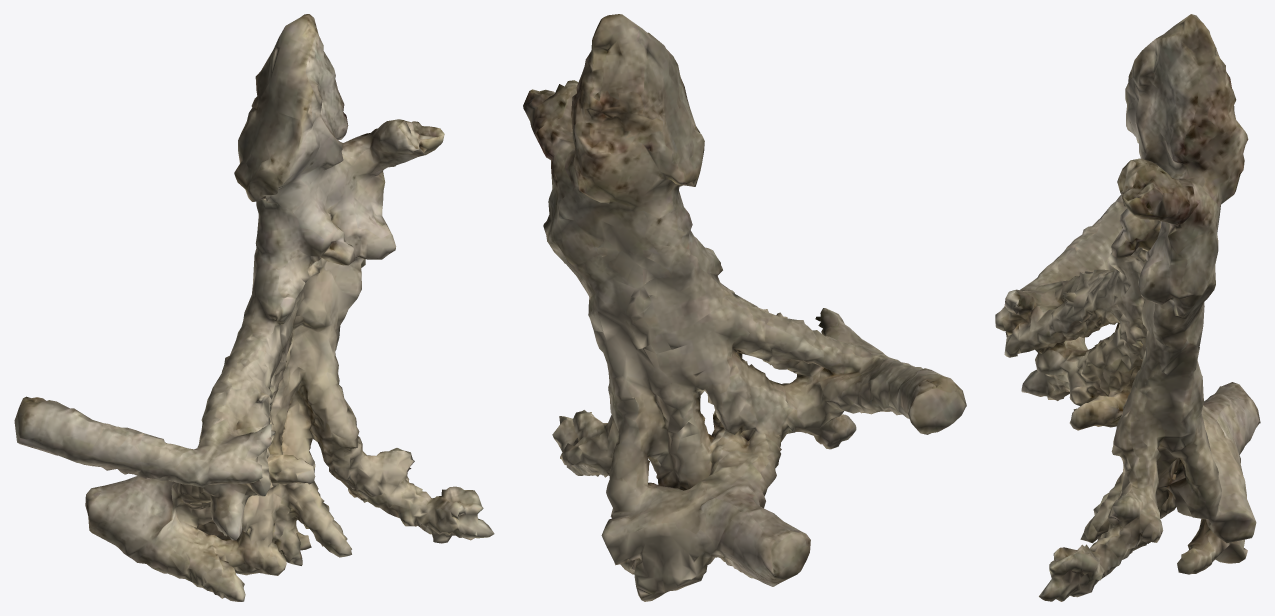
The model's file is prolifera.glb.
3 renders of one model, left to right at view 1: azimuth 30°, elevation 25°; view 2: azimuth 150°, elevation 25°; view 3: azimuth 270°, elevation 25°, orthographic. The views are drawn at different scales.
Bounding box in the file's own units: 0.2127 × 0.257 × 0.1077.
Materials: 1 (1 with a texture image).
